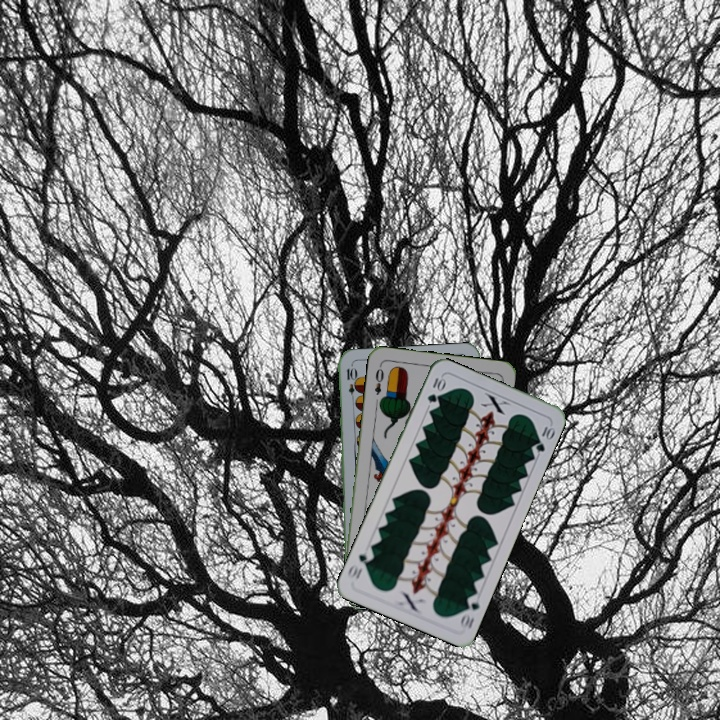E10: (342, 364, 358, 404)
EO: (370, 361, 387, 397)
G10: (456, 591, 482, 632), (423, 373, 447, 405)
